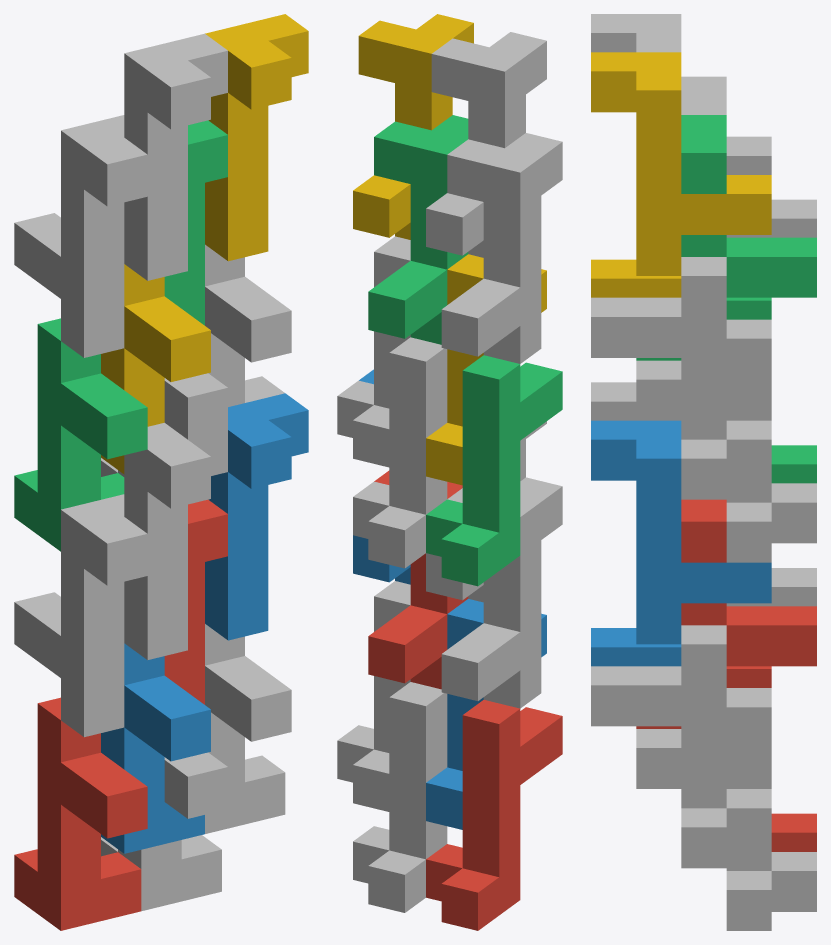
The model's file is tiling.obj.
3 renders of one model, left to right at view 1: azimuth 30°, elevation 25°; view 2: azimuth 150°, elevation 25°; view 3: azimuth 270°, elevation 25°, orthographic. The views are drawn at different scales.
Parts seen in each view (by area): view 1: copy_1_domain_1, copy_2_domain_1, copy_2_domain_3, copy_2_domain_4, copy_1_domain_3, copy_2_domain_8, copy_2_domain_2, copy_2_domain_6, copy_1_domain_6, copy_1_domain_2, copy_1_domain_4, copy_1_domain_8 (+4 smaller); view 2: copy_2_domain_3, copy_1_domain_3, copy_1_domain_1, copy_2_domain_1, copy_1_domain_7, copy_1_domain_5, copy_2_domain_4, copy_2_domain_7, copy_2_domain_8, copy_2_domain_5, copy_1_domain_8, copy_1_domain_6 (+4 smaller); view 3: copy_1_domain_6, copy_1_domain_8, copy_2_domain_8, copy_2_domain_6, copy_1_domain_7, copy_1_domain_5, copy_2_domain_7, copy_2_domain_5, copy_2_domain_4, copy_2_domain_3, copy_1_domain_3, copy_1_domain_1 (+4 smaller).
Part boxes in pixels (box(x1,y1,x2,y2)): copy_1_domain_1: box(14, 697, 147, 930); copy_2_domain_1: box(14, 494, 147, 737); copy_2_domain_3: box(14, 115, 147, 357); copy_2_domain_4: box(124, 33, 227, 280); copy_1_domain_3: box(14, 318, 147, 551); copy_2_domain_8: box(205, 14, 308, 261); copy_2_domain_2: box(124, 422, 227, 660); copy_2_domain_6: box(205, 393, 308, 640); copy_1_domain_6: box(205, 624, 291, 833); copy_1_domain_2: box(101, 643, 210, 853); copy_1_domain_4: box(101, 264, 210, 474); copy_1_domain_8: box(205, 244, 291, 406); copy_2_domain_3: box(441, 133, 562, 363); copy_1_domain_3: box(426, 355, 562, 586); copy_1_domain_1: box(426, 700, 562, 930); copy_2_domain_1: box(441, 477, 562, 708); copy_1_domain_7: box(353, 337, 447, 568); copy_1_domain_5: box(353, 682, 447, 912); copy_2_domain_4: box(426, 32, 546, 257); copy_2_domain_7: box(368, 115, 468, 344); copy_2_domain_8: box(353, 14, 473, 239); copy_2_domain_5: box(368, 470, 468, 689); copy_1_domain_8: box(337, 236, 410, 467); copy_1_domain_6: box(337, 581, 410, 811); copy_1_domain_6: box(591, 625, 771, 868); copy_1_domain_8: box(591, 257, 771, 499); copy_2_domain_8: box(591, 52, 771, 275); copy_2_domain_6: box(591, 420, 771, 644); copy_1_domain_7: box(636, 319, 816, 562); copy_1_domain_5: box(636, 688, 816, 930); copy_2_domain_7: box(681, 115, 816, 297); copy_2_domain_5: box(681, 499, 816, 666); copy_2_domain_4: box(591, 14, 771, 174); copy_2_domain_3: box(681, 76, 816, 237); copy_1_domain_3: box(636, 297, 816, 483); copy_1_domain_1: box(636, 666, 816, 851).
Bounding box in the file's own units: 5 × 21 × 5.
